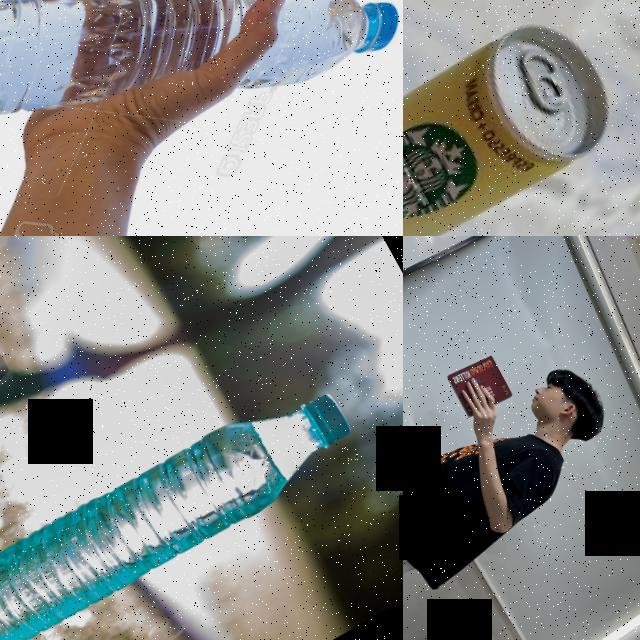bottle: (0, 373, 367, 640), (0, 0, 403, 236)
can: (403, 1, 631, 236)
